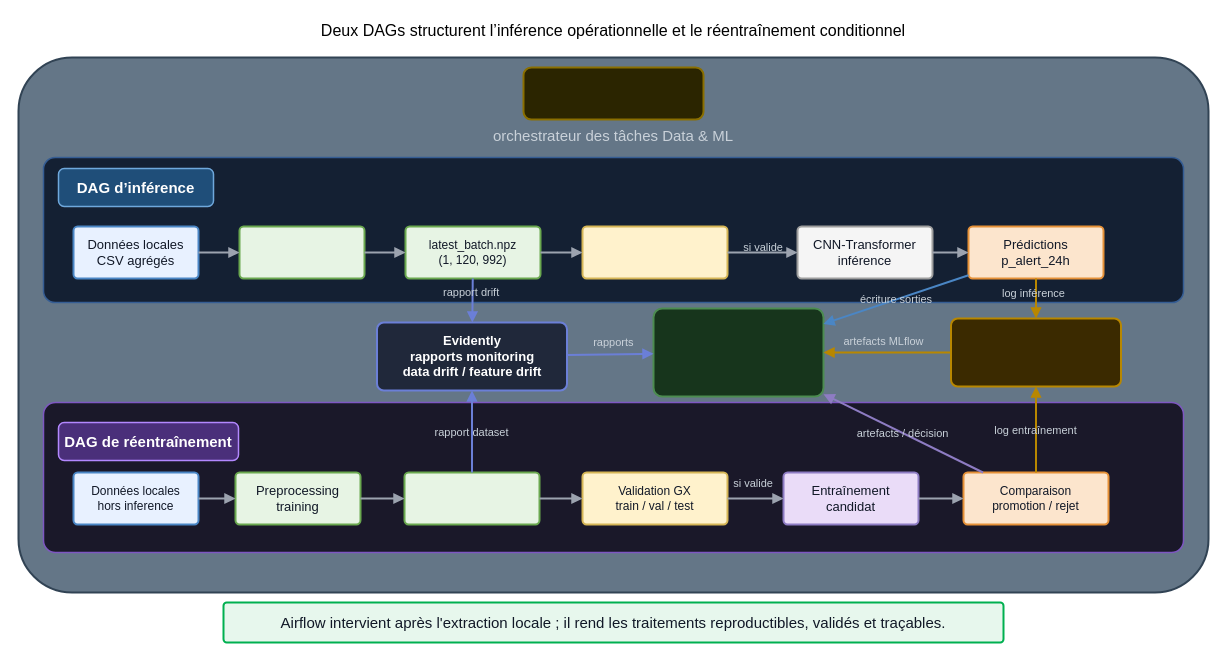
This 1226x660 diagram has some shape labels left out. Here are the shapes that lost their labels. From the top down, the centre of each, then its label:
At pixel 613 93: "Airflow".
At pixel 301 252: "Preprocessing inférence".
At pixel 654 252: "Validation GX".
At pixel 738 352: "AWS S3 prédictions récentes rapports Evidently artefacts opérationnels".
At pixel 1036 352: "MLflow runs / métriques décisions".
At pixel 471 498: "Dataset candidat NPZ".
